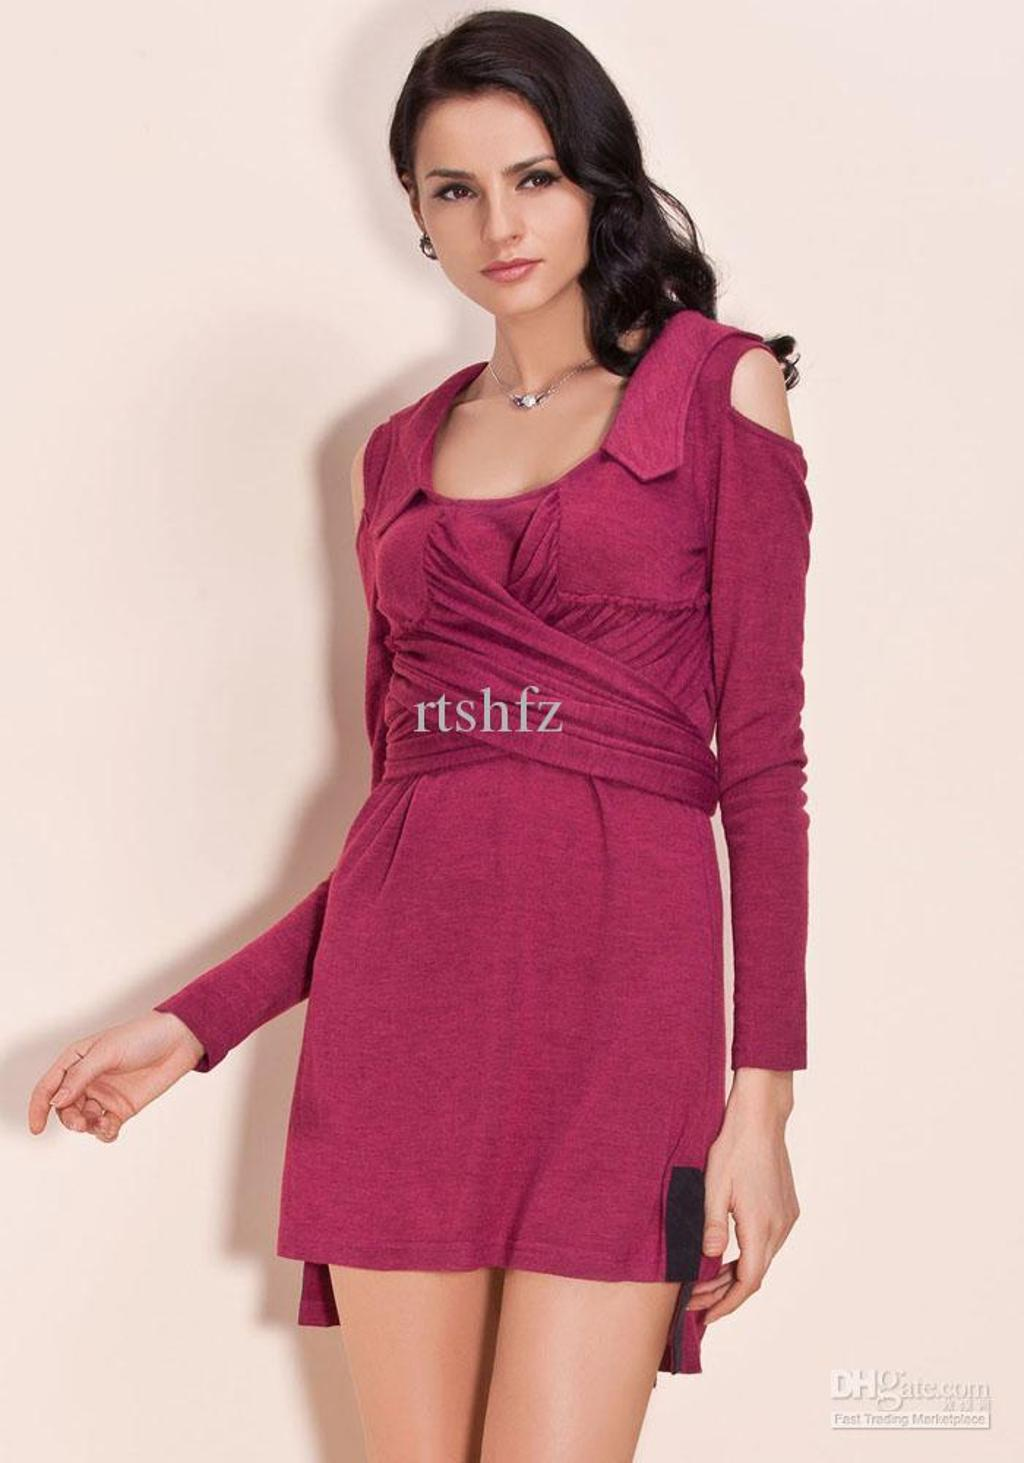face: (415, 89, 598, 312)
